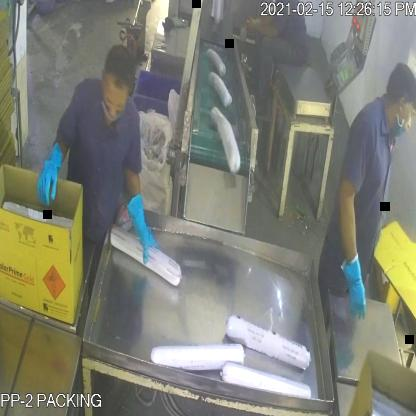glove: (28, 130, 67, 210), (126, 181, 158, 268), (340, 241, 367, 319)
no_glove: (240, 12, 282, 46)
